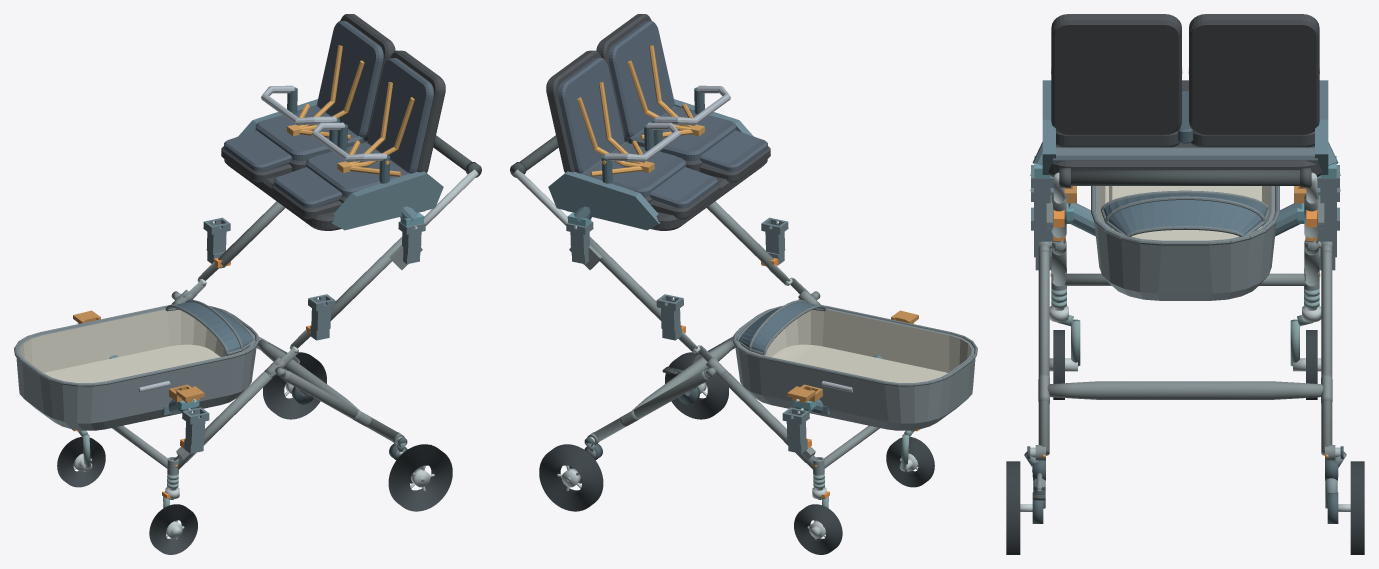
Rendered from D24_w650_state1_wheel_S.glb.
The picture shows the model from 3 angles, left to right: view 1: azimuth 30°, elevation 25°; view 2: azimuth 150°, elevation 25°; view 3: azimuth 270°, elevation 25°; orthographic projection. The views are drawn at different scales.
Parts seen in each view (by area): view 1: D24_Upper, D24_Lower, RL_tire.008, RR_tire.008, FL_tire.008, FR_tire.008, V46_rear_leg_-1.009, main_lower_-1.009, main_upper_-1.009, V46_rearbar.009, main_upper_1.009, Universal_Cabin_Receiver_L_-1 (+5 smaller); view 2: D24_Upper, D24_Lower, RR_tire.008, FR_tire.008, RL_tire.008, FL_tire.008, V46_rear_leg_1.009, main_lower_1.009, main_upper_1.009, V46_rearbar.009, main_upper_-1.009, Universal_Cabin_Receiver_L_1 (+5 smaller); view 3: D24_Upper, D24_Lower, V46_rearbar.009, round_handle.008, V46_rear_leg_1.009, V46_rear_leg_-1.009, RL_tire.008, RR_tire.008, D24_Lower_Mount_L, front_fixed_round_tube.008, Universal_Cabin_Receiver_H_1, Universal_Cabin_Receiver_H_-1 (+5 smaller).
Boxes of the visible parts, box(x1,y1,x2,y2) form: D24_Upper: box(221, 14, 445, 230); D24_Lower: box(14, 300, 258, 430); RL_tire.008: box(388, 444, 452, 511); RR_tire.008: box(263, 352, 326, 419); FL_tire.008: box(149, 504, 197, 554); FR_tire.008: box(57, 437, 105, 487); V46_rear_leg_-1.009: box(283, 370, 398, 441); main_lower_-1.009: box(174, 371, 275, 469); main_upper_-1.009: box(330, 236, 402, 320); V46_rearbar.009: box(256, 339, 359, 410); main_upper_1.009: box(218, 201, 285, 267); Universal_Cabin_Receiver_L_-1: box(182, 407, 209, 453); D24_Upper: box(546, 14, 770, 230); D24_Lower: box(733, 300, 977, 430); RR_tire.008: box(539, 444, 603, 511); FR_tire.008: box(794, 504, 842, 554); RL_tire.008: box(665, 352, 728, 419); FL_tire.008: box(886, 437, 934, 487); V46_rear_leg_1.009: box(593, 370, 708, 441); main_lower_1.009: box(716, 371, 817, 469); main_upper_1.009: box(589, 236, 661, 320); V46_rearbar.009: box(632, 339, 735, 410); main_upper_-1.009: box(706, 201, 773, 267); Universal_Cabin_Receiver_L_1: box(782, 407, 809, 453); D24_Upper: box(1042, 14, 1328, 176); D24_Lower: box(1091, 186, 1279, 300); V46_rearbar.009: box(1047, 381, 1323, 399); round_handle.008: box(1059, 170, 1311, 185); V46_rear_leg_1.009: box(1321, 250, 1332, 455); V46_rear_leg_-1.009: box(1038, 250, 1049, 455); RL_tire.008: box(1006, 461, 1020, 554); RR_tire.008: box(1350, 461, 1364, 554); D24_Lower_Mount_L: box(1066, 203, 1304, 236); front_fixed_round_tube.008: box(1065, 273, 1305, 285); Universal_Cabin_Receiver_H_1: box(1317, 165, 1339, 227); Universal_Cabin_Receiver_H_-1: box(1031, 165, 1053, 227).
Bounding box in the file's own units: 1.37 × 1.32 × 0.766.
